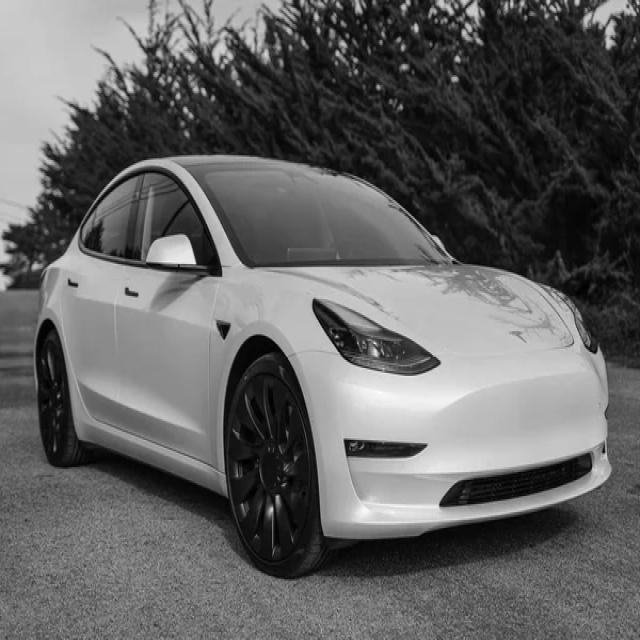Car: (34, 156, 612, 578)
